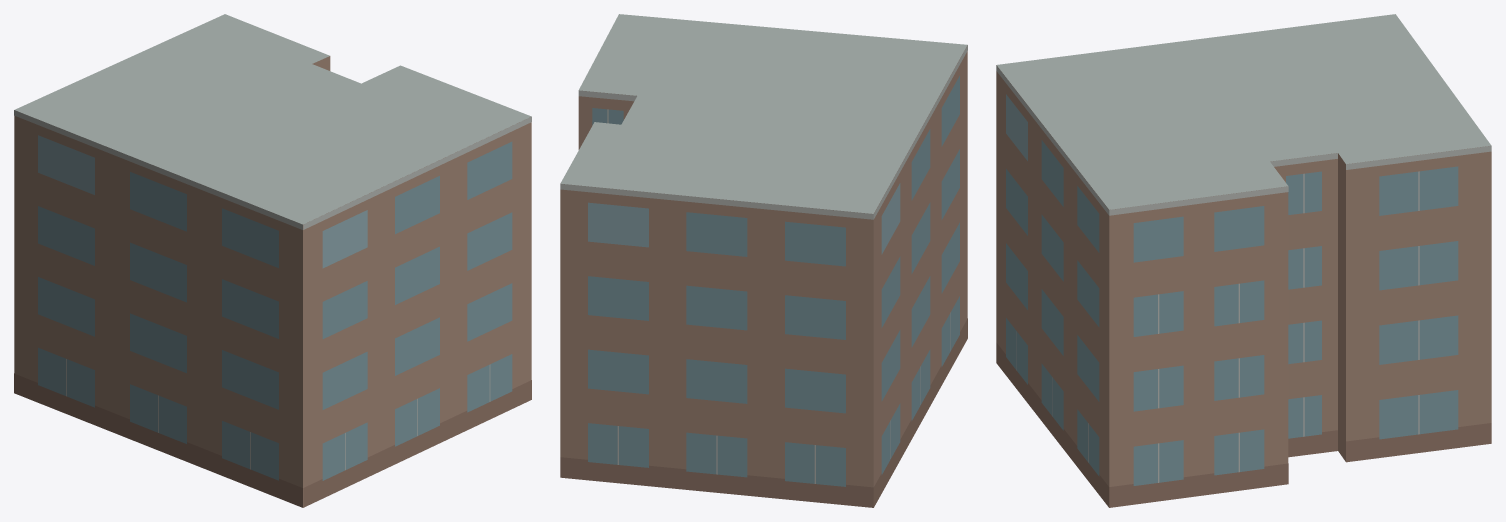
The model's file is survey-upis-32613222.glb.
3 views of the same model, side by side, from view 1: azimuth 30°, elevation 25°; view 2: azimuth 150°, elevation 25°; view 3: azimuth 270°, elevation 25° (orthographic). The views are drawn at different scales.
Parts seen in each view (by area): view 1: survey-upis-32613222.tmp; view 2: survey-upis-32613222.tmp; view 3: survey-upis-32613222.tmp.
Boxes of the visible parts, x1,y1,x2,y2 form: survey-upis-32613222.tmp: (14, 14, 531, 507); survey-upis-32613222.tmp: (560, 14, 967, 507); survey-upis-32613222.tmp: (996, 14, 1491, 507).
Size of the model in its own units: 17.49 by 12.4 by 18.68.
